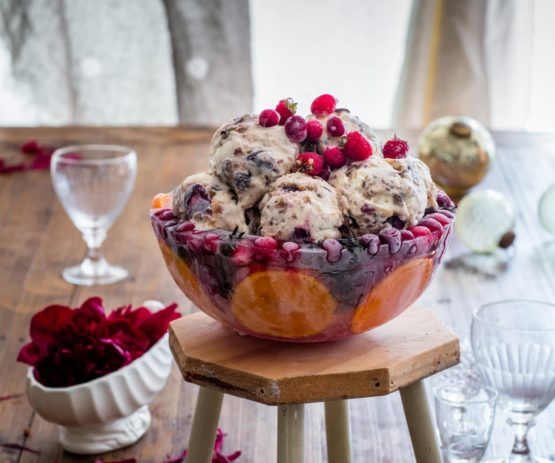ice-cream: (335, 153, 433, 234), (212, 115, 301, 196), (259, 175, 346, 244), (171, 174, 249, 235), (305, 109, 382, 165)
